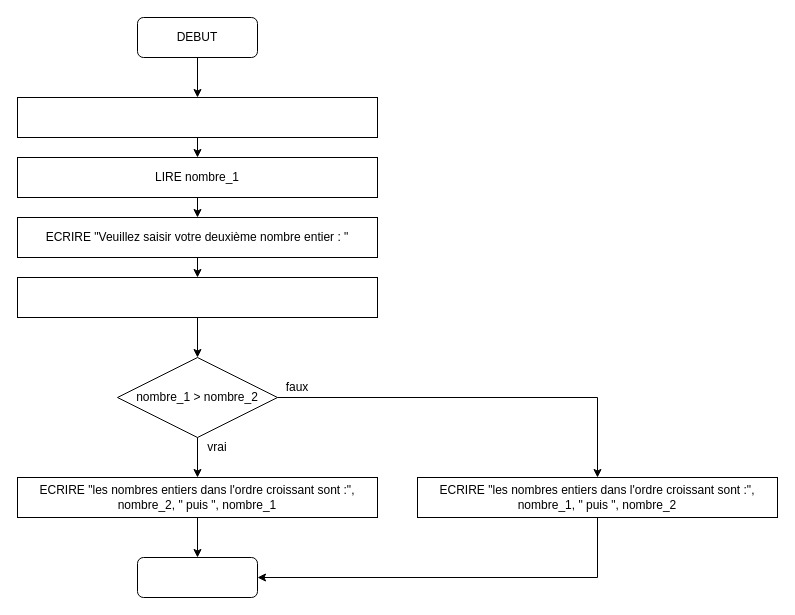
This 795x615 diagram has some shape labels left out. Each missing label, with the box of its shape:
ECRIRE "Veuillez saisir votre premier nombre entier : ": (16, 96, 378, 138)
FIN: (136, 556, 258, 598)
LIRE nombre_2: (16, 276, 378, 318)
